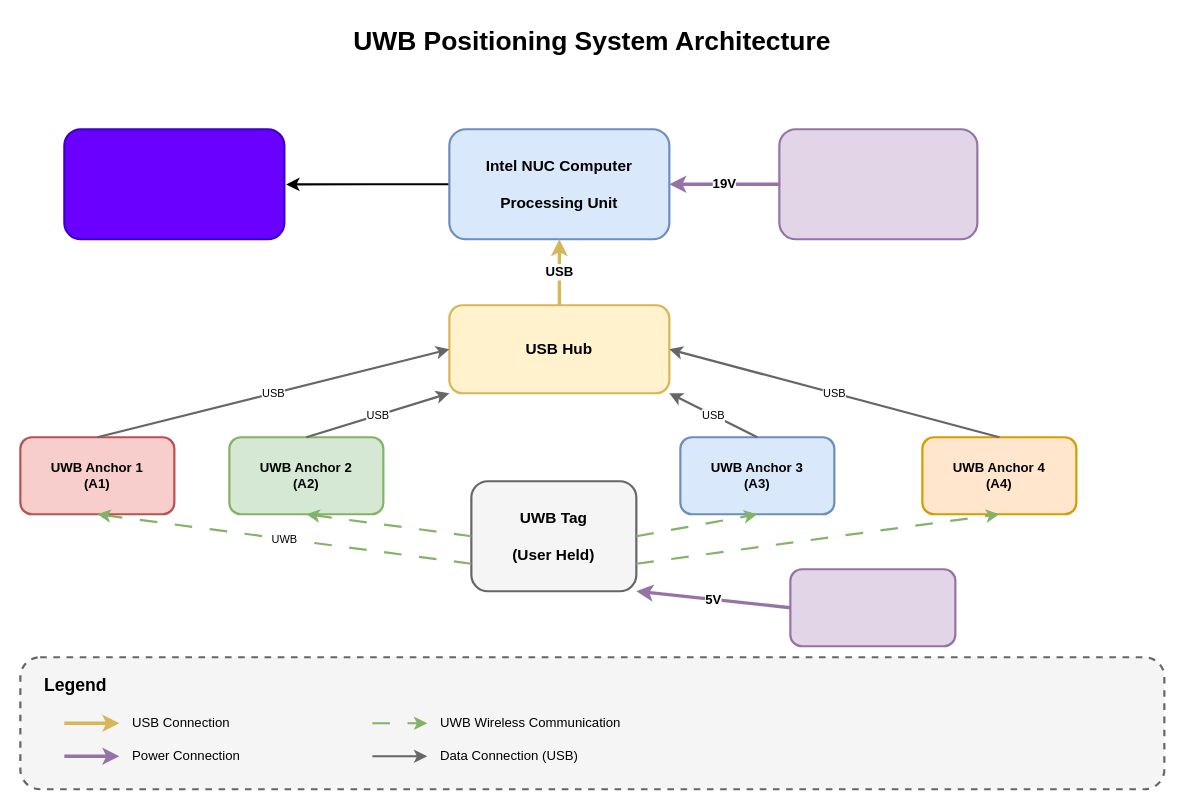
Image size: 1184x809. Some labels were removed from this diagram. Here are the shapes that lost their labels. From the top down, the box of each, then its label:
(63, 128, 285, 240): Robot
(778, 128, 978, 240): 19V Power Source
(789, 568, 956, 647): 5V Battery
